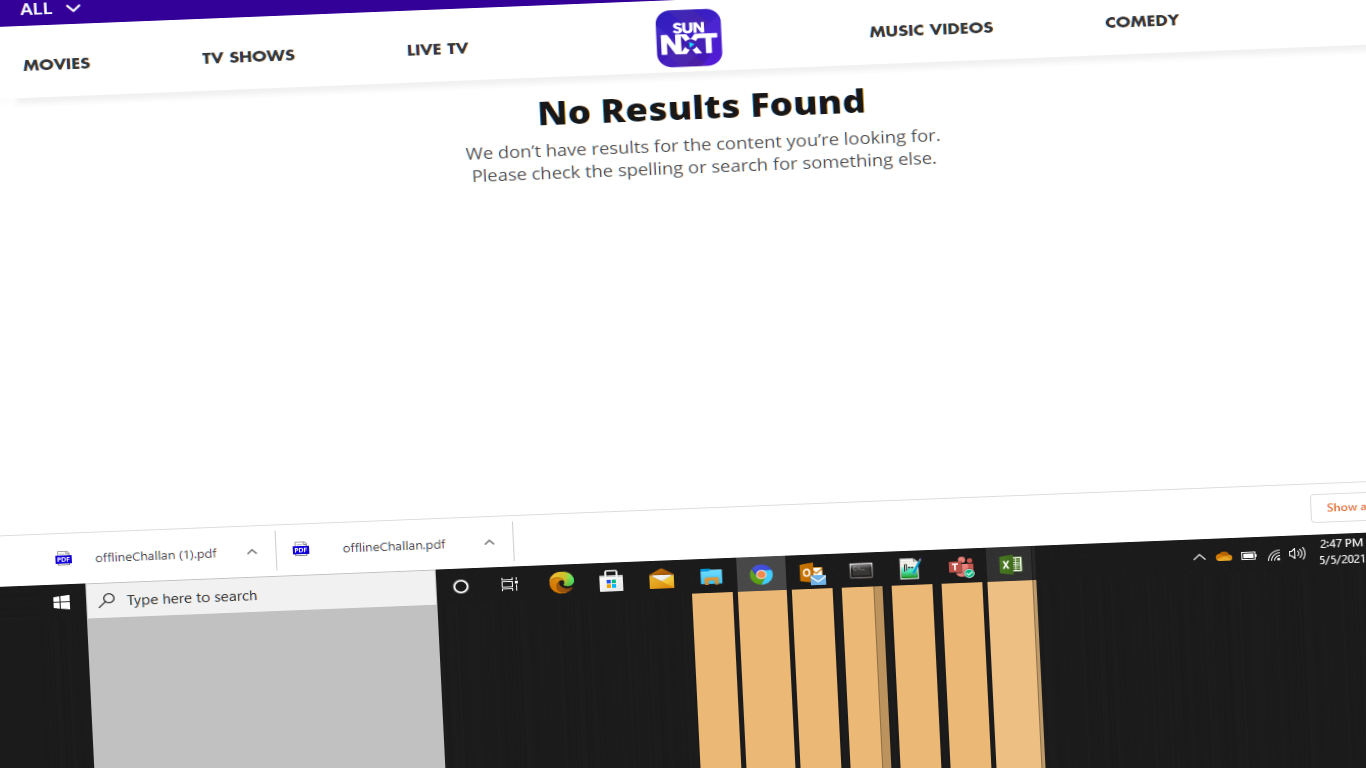noresultsfound: (468, 59, 940, 223)
